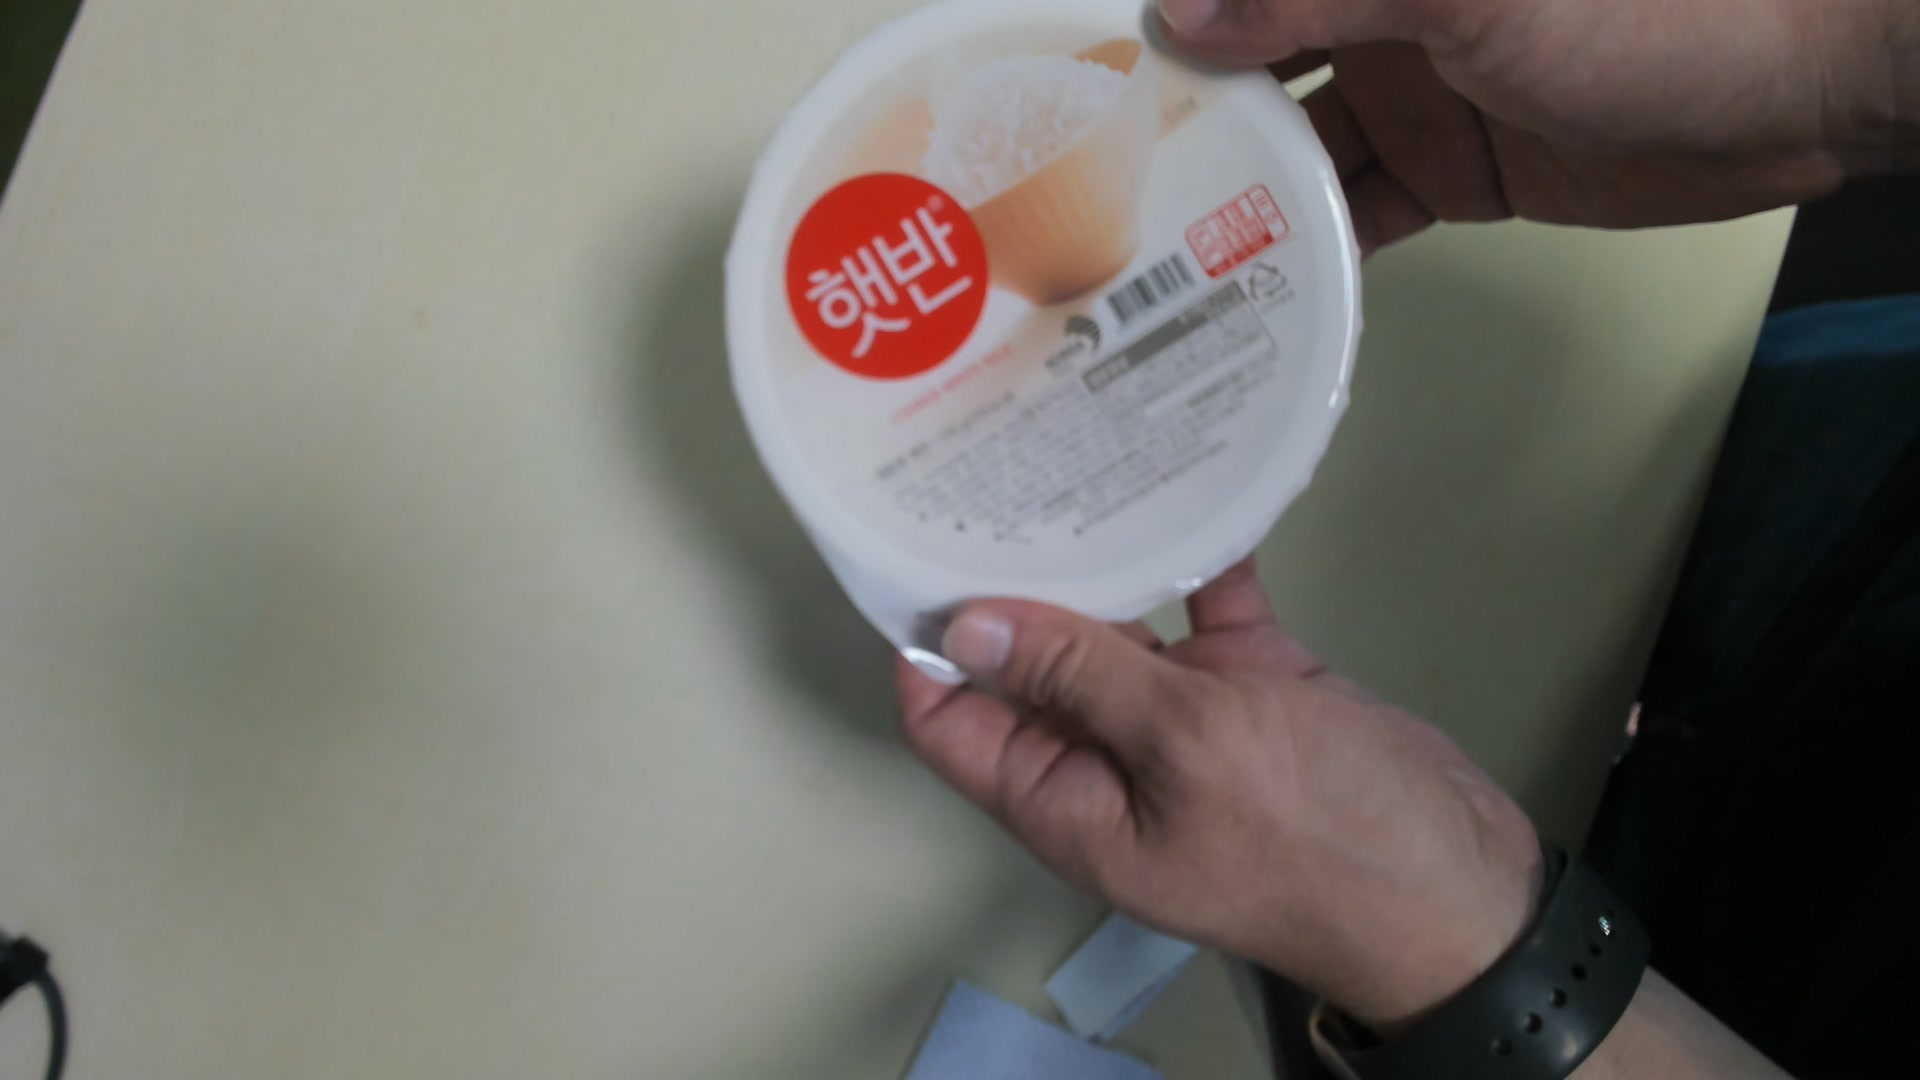Pasta_500-599g_Halal_NonHealthy: (720, 11, 1362, 679)
